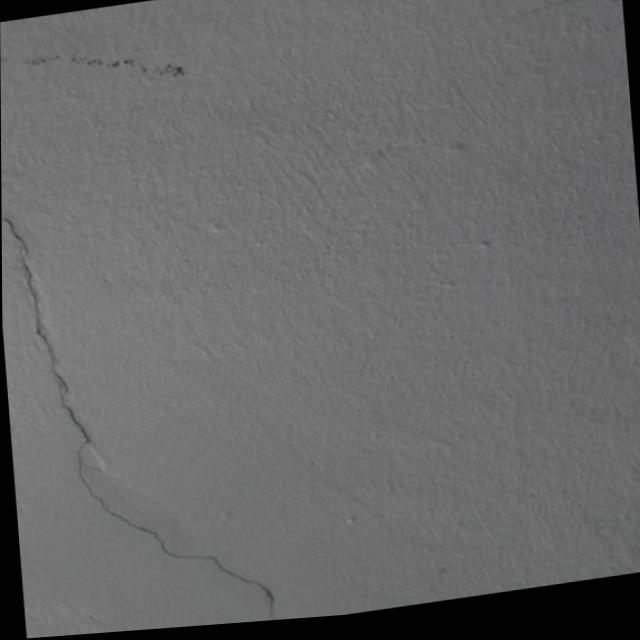Crack: (1, 176, 299, 640)
